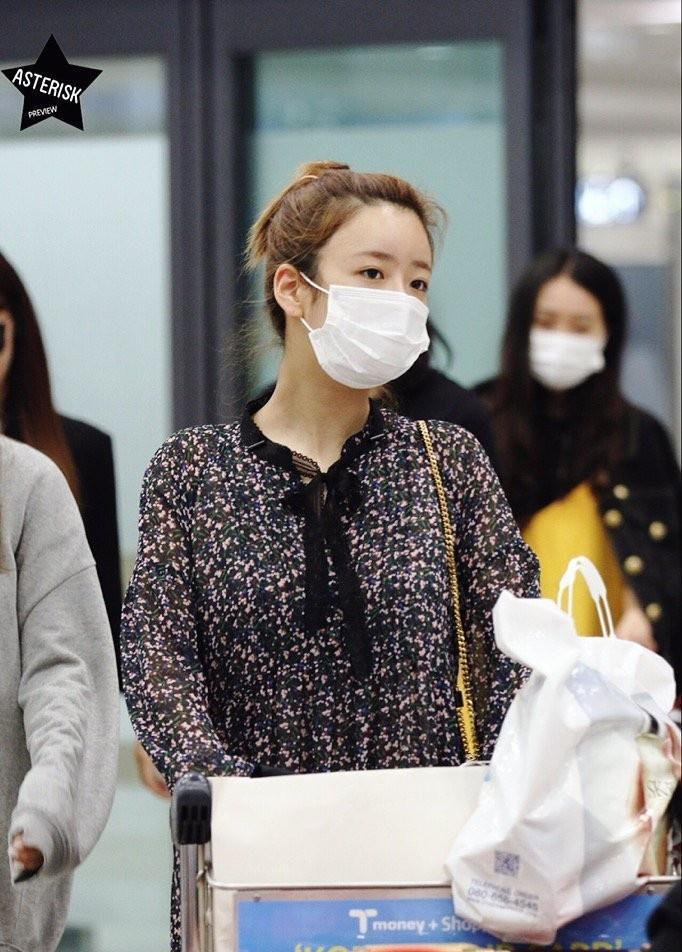OK: (294, 237, 438, 381), (528, 295, 603, 389)
